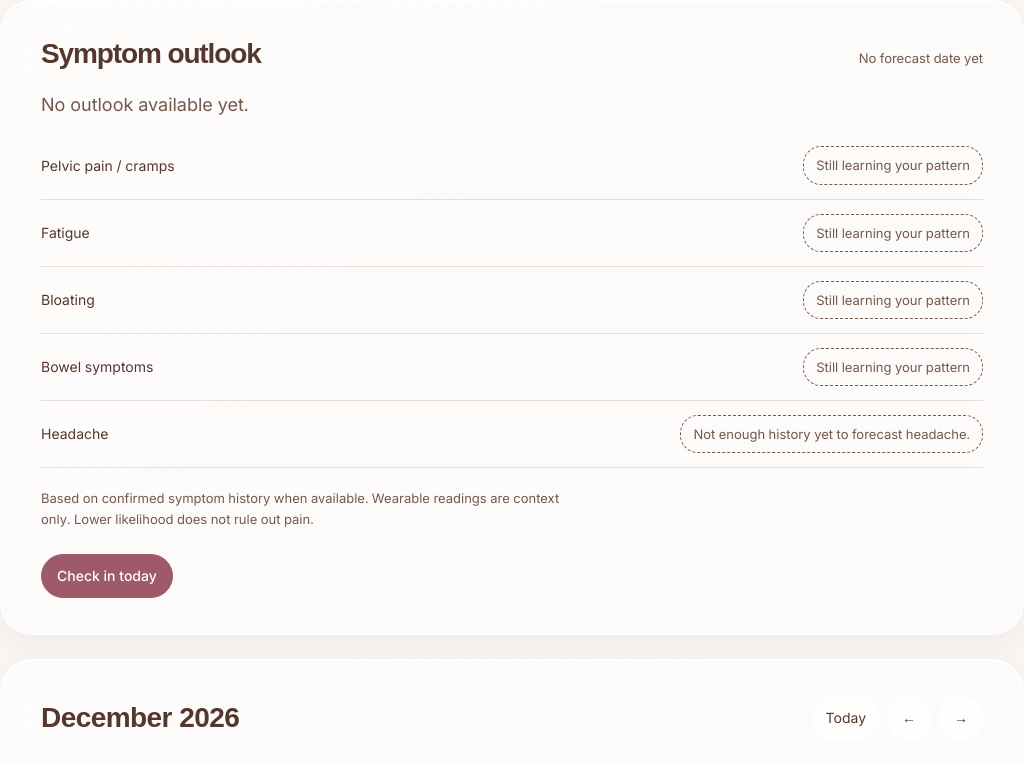
Test case: navigates December to January and back without locale-dependent date parsing
The image size is (1024, 763).
Click the button named "Next month" at (961, 718), box top-left (939, 696), bottom-right (983, 740)
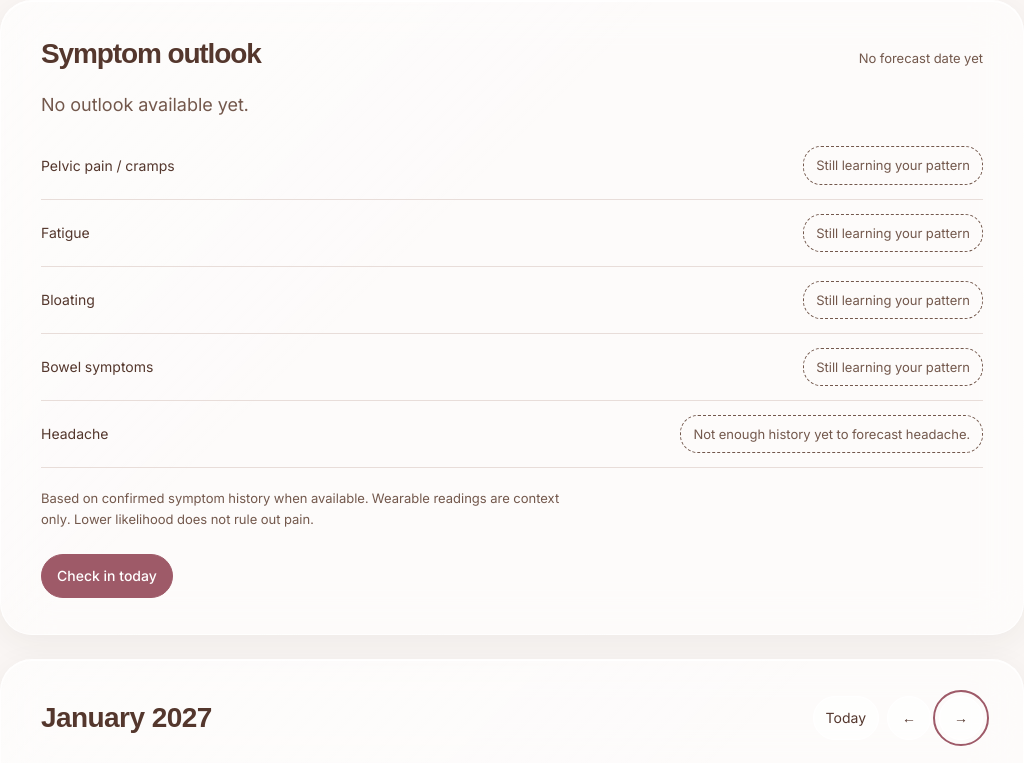
Now the heading "January 2027" is shown, box top-left (41, 702), bottom-right (212, 734)
Click the button named "Previous month" at (909, 718), box top-left (887, 696), bottom-right (931, 740)
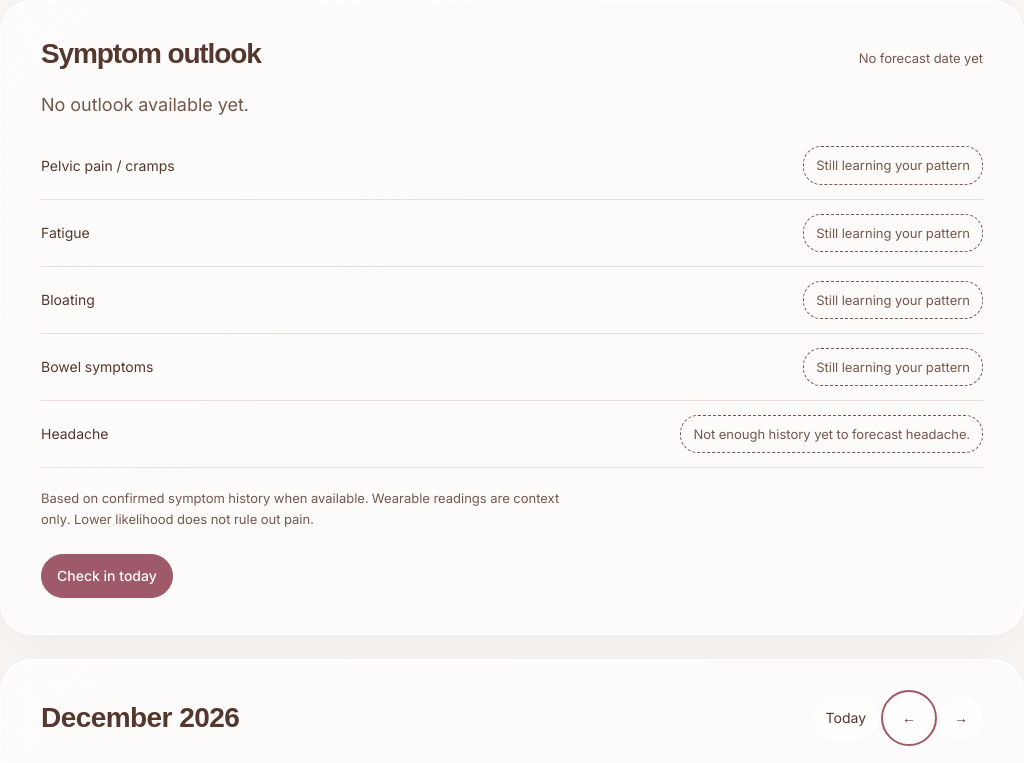
Now the heading "December 2026" is shown, box top-left (41, 702), bottom-right (239, 734)
